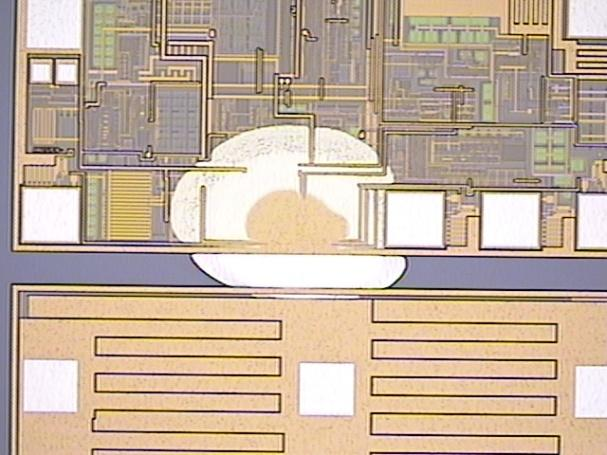BLOCK ETCH: (170, 122, 415, 306)
